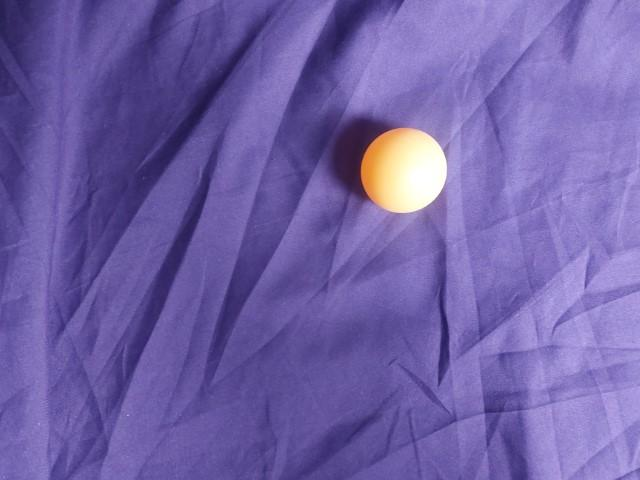oball: (184, 260, 287, 360)
